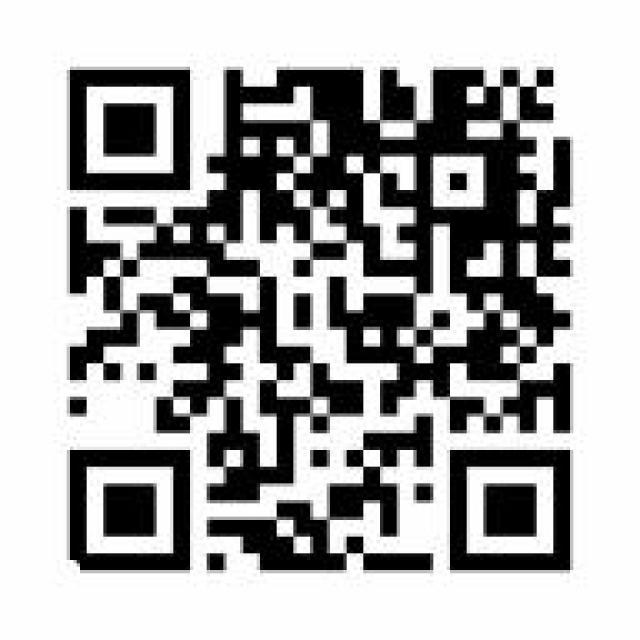qr_code: (68, 70, 571, 572)
